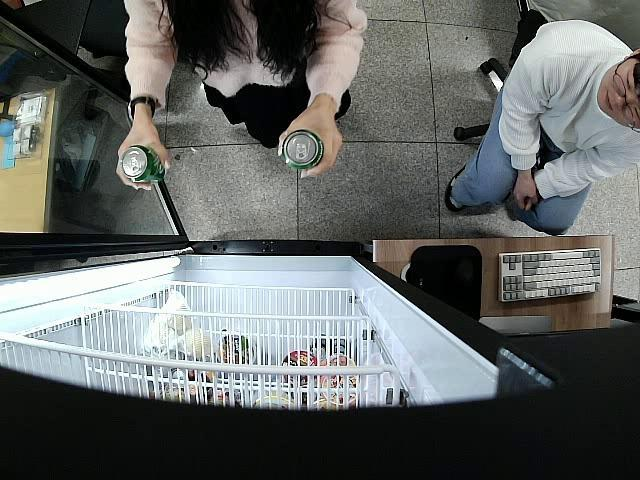12_chilsungCider: (280, 129, 324, 172), (120, 145, 166, 182)
